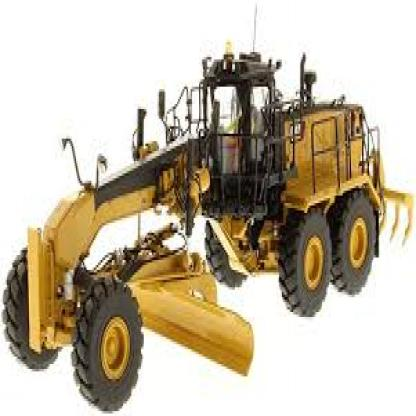bull_dozer/loader/grader: (7, 42, 409, 414)
